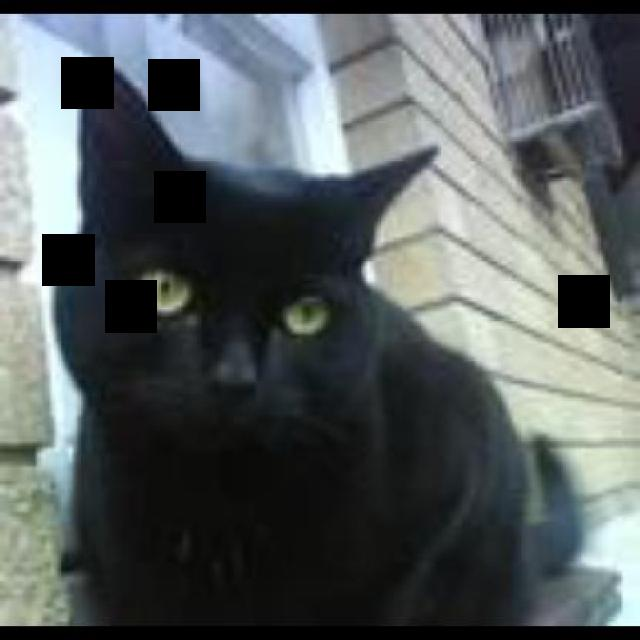unauthorized: (50, 60, 588, 626)
